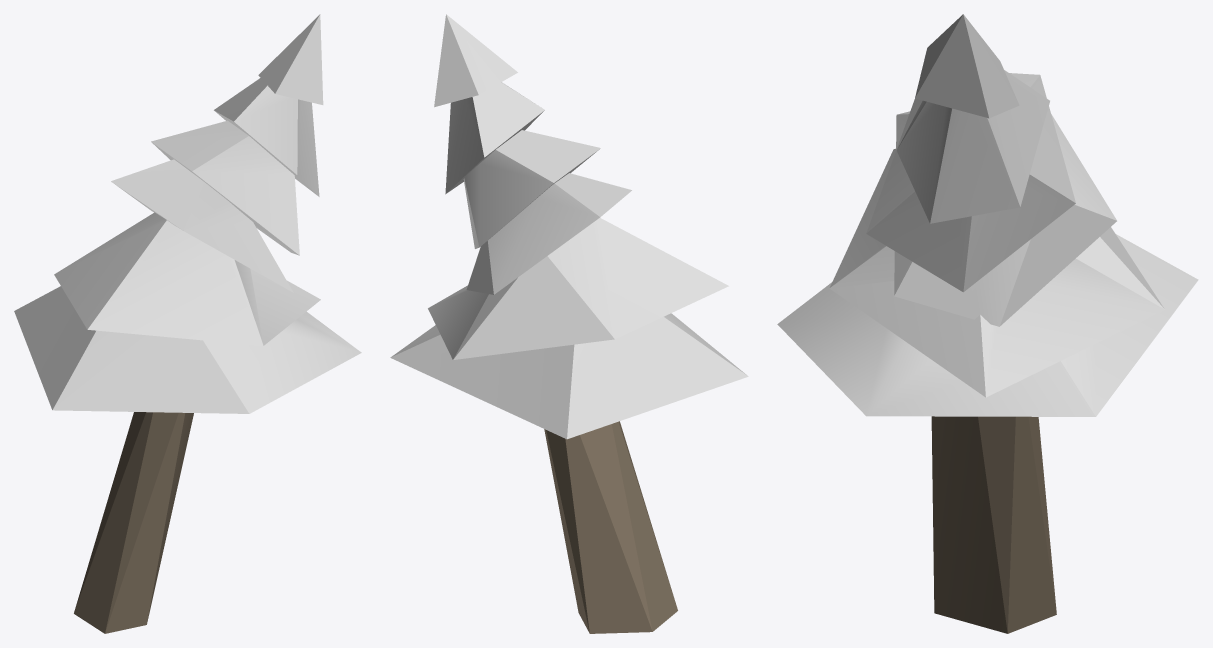
The model's file is Tree_Pine_Snow_Tall_05.fbx.
The picture shows the model from 3 angles, left to right: view 1: azimuth 30°, elevation 25°; view 2: azimuth 150°, elevation 25°; view 3: azimuth 270°, elevation 25°; orthographic projection. The views are drawn at different scales.
Visible parts, largest first — view 1: Tree_Pine_Snow_Tall_05; view 2: Tree_Pine_Snow_Tall_05; view 3: Tree_Pine_Snow_Tall_05.
Part boxes in pixels (bbox=[...]): Tree_Pine_Snow_Tall_05: bbox=[14, 14, 361, 633]; Tree_Pine_Snow_Tall_05: bbox=[390, 14, 748, 633]; Tree_Pine_Snow_Tall_05: bbox=[777, 14, 1198, 633].
Size of the model in its own units: 69.2 by 124 by 66.28.
